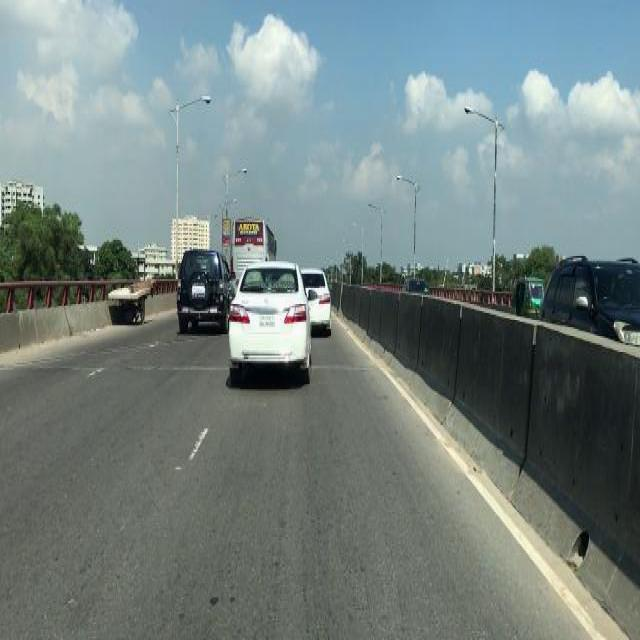BUS: (218, 214, 274, 278)
